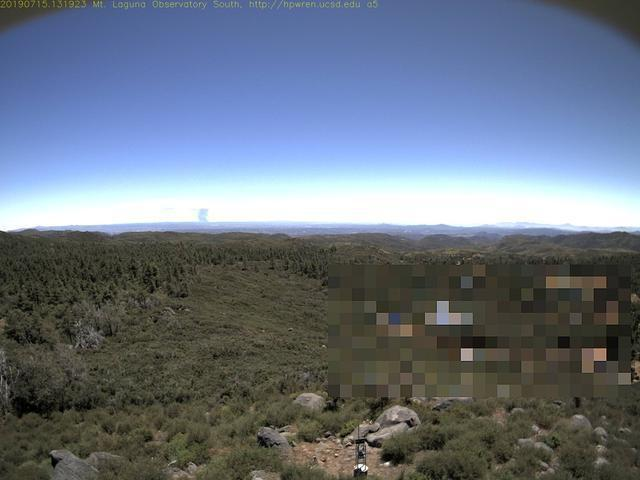Smoke: (194, 203, 212, 228)
